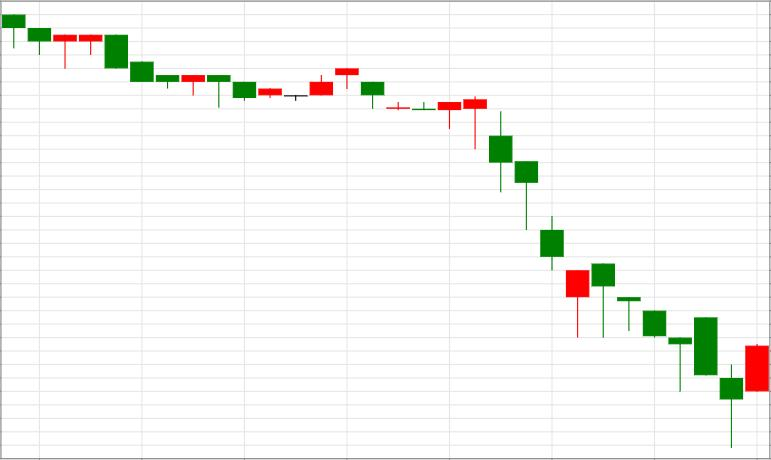hammer_rise: (464, 95, 590, 338)
